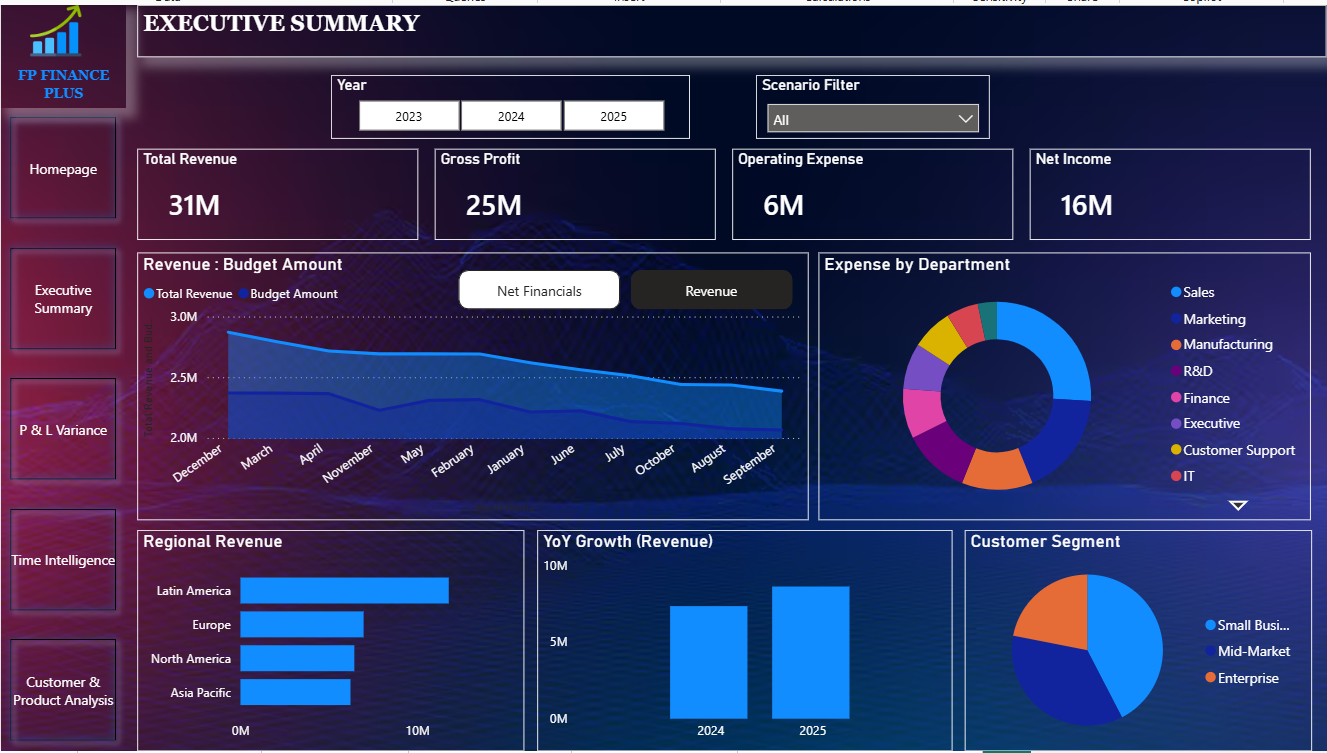

What the dashboard file says about the page in this screenshot:
{"tool":"powerbi","page":{"name":"Executive Summary","canvas":[1280,720],"ordinal":1},"visuals":[{"type":"textbox","box":[131.5,0,1148.5,50.7],"z":0},{"type":"cardVisual","title":"Total Revenue","fields":{"Data":["_Measures.Total Revenue"]},"box":[131.5,138.7,271.4,88.1],"z":1000},{"type":"slicer","title":"Year","fields":{"Values":["DimDate.Year"]},"box":[318.5,67.6,346.2,61.5],"z":2000},{"type":"cardVisual","title":"Gross Profit","fields":{"Data":["_Measures.Gross Profit"]},"box":[418.6,138.7,271.4,88.1],"z":3000},{"type":"cardVisual","title":"Operating Expense","fields":{"Data":["_Measures.Total Operating Expense"]},"box":[705.8,138.7,271.4,88.1],"z":4000},{"type":"cardVisual","title":"Net Income","fields":{"Data":["_Measures.Net Income"]},"box":[992.9,138.7,271.4,88.1],"z":5000},{"type":"slicer","title":"Scenario Filter","fields":{"Values":["DimScenario.ScenarioName"]},"box":[728.7,67.6,225.6,61.5],"z":6000},{"type":"donutChart","title":"Expense by Department","fields":{"Category":["DimDepartment.DepartmentName"],"Y":["_Measures.Total Revenue"]},"box":[789,238.9,475.3,258.2],"z":8000},{"type":"barChart","title":"Regional Revenue","fields":{"Category":["DimCustomer.Region"],"Y":["_Measures.Total Revenue"]},"box":[131.5,506.7,374,213.5],"z":9000},{"type":"clusteredColumnChart","title":"YoY Growth (Revenue)","fields":{"Category":["DimDate.Year"],"Y":["_Measures.Revenue PY"]},"box":[517.6,506.7,400.5,213.5],"z":10000},{"type":"pieChart","title":"Customer Segment ","fields":{"Category":["DimCustomer.CustomerSegment"],"Y":["_Measures.Total Revenue"]},"box":[930.2,506.7,335.4,213.5],"z":11000},{"type":"areaChart","title":"Revenue : Budget Amount","fields":{"Category":["DimDate.MonthName"],"Y":["_Measures.Total Revenue","_Measures.Budget Amount"]},"box":[131.5,238.9,647.9,258.2],"z":12000},{"type":"bookmarkNavigator","box":[441.6,255.8,323.3,38.6],"z":13000},{"type":"pageNavigator","box":[0,98.9,120.6,621.3],"z":14000},{"type":"textbox","box":[0,0,120.6,98.9],"z":15000},{"type":"image","box":[0,0,106.2,49.5],"z":16000}]}

Visuals, with their boxes on the page's 1280x720 design canvas (x1, y1, x2, y2). These are canvas units, not pixel positions in the 1327x753 screenshot, which may show the page scaled, cropped or inside an application window:
textbox: (132,0,1280,51)
"Total Revenue" cardVisual: (132,139,403,227)
"Year" slicer: (318,68,665,129)
"Gross Profit" cardVisual: (419,139,690,227)
"Operating Expense" cardVisual: (706,139,977,227)
"Net Income" cardVisual: (993,139,1264,227)
"Scenario Filter" slicer: (729,68,954,129)
"Expense by Department" donutChart: (789,239,1264,497)
"Regional Revenue" barChart: (132,507,506,720)
"YoY Growth (Revenue)" clusteredColumnChart: (518,507,918,720)
"Customer Segment " pieChart: (930,507,1266,720)
"Revenue : Budget Amount" areaChart: (132,239,779,497)
bookmarkNavigator: (442,256,765,294)
pageNavigator: (0,99,121,720)
textbox: (0,0,121,99)
image: (0,0,106,50)
